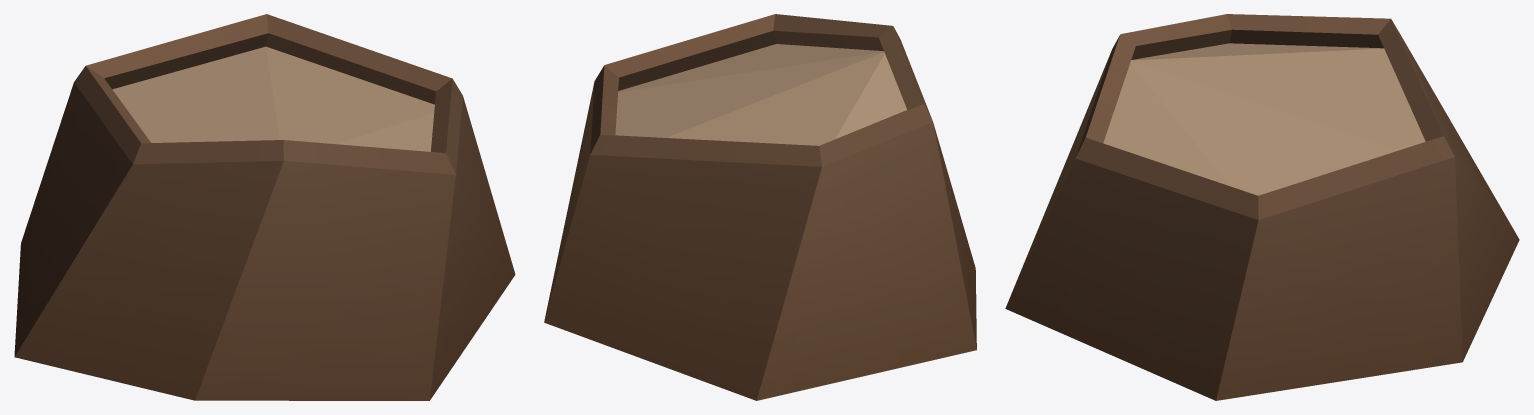
File: Stump_Spruce_01.fbx
The picture shows the model from 3 angles, left to right: view 1: azimuth 30°, elevation 25°; view 2: azimuth 150°, elevation 25°; view 3: azimuth 270°, elevation 25°; orthographic projection. The views are drawn at different scales.
Visible parts, largest first — view 1: Stump_Spruce; view 2: Stump_Spruce; view 3: Stump_Spruce.
Boxes of the visible parts, box(x1,y1,x2,y2) form: Stump_Spruce: box(14, 14, 515, 400); Stump_Spruce: box(544, 14, 976, 400); Stump_Spruce: box(1005, 14, 1519, 400).
Size of the model in its own units: 1.66 by 0.8229 by 1.65.
